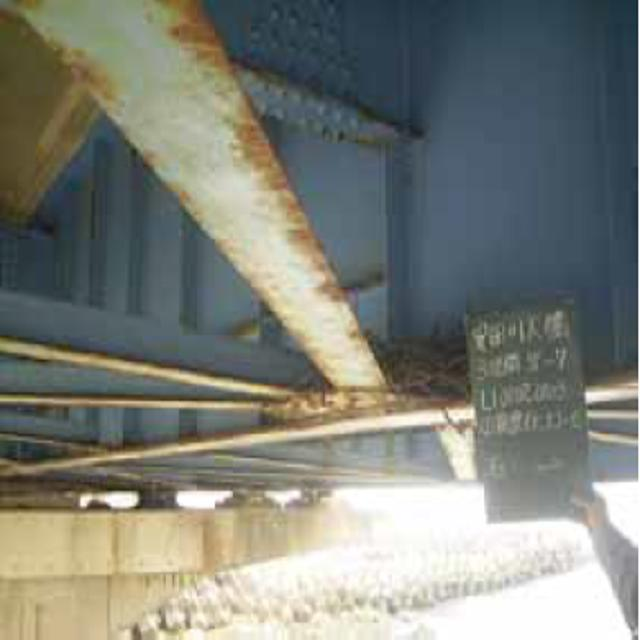corrosion: (172, 14, 414, 446)
